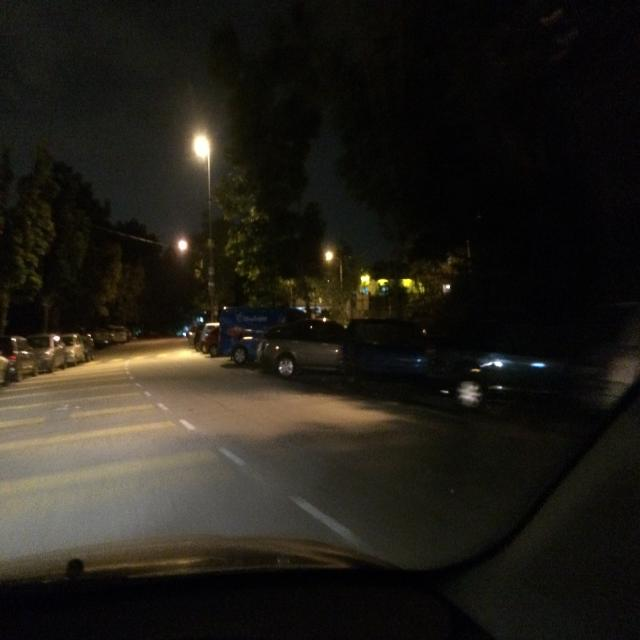Car: (249, 317, 353, 392)
